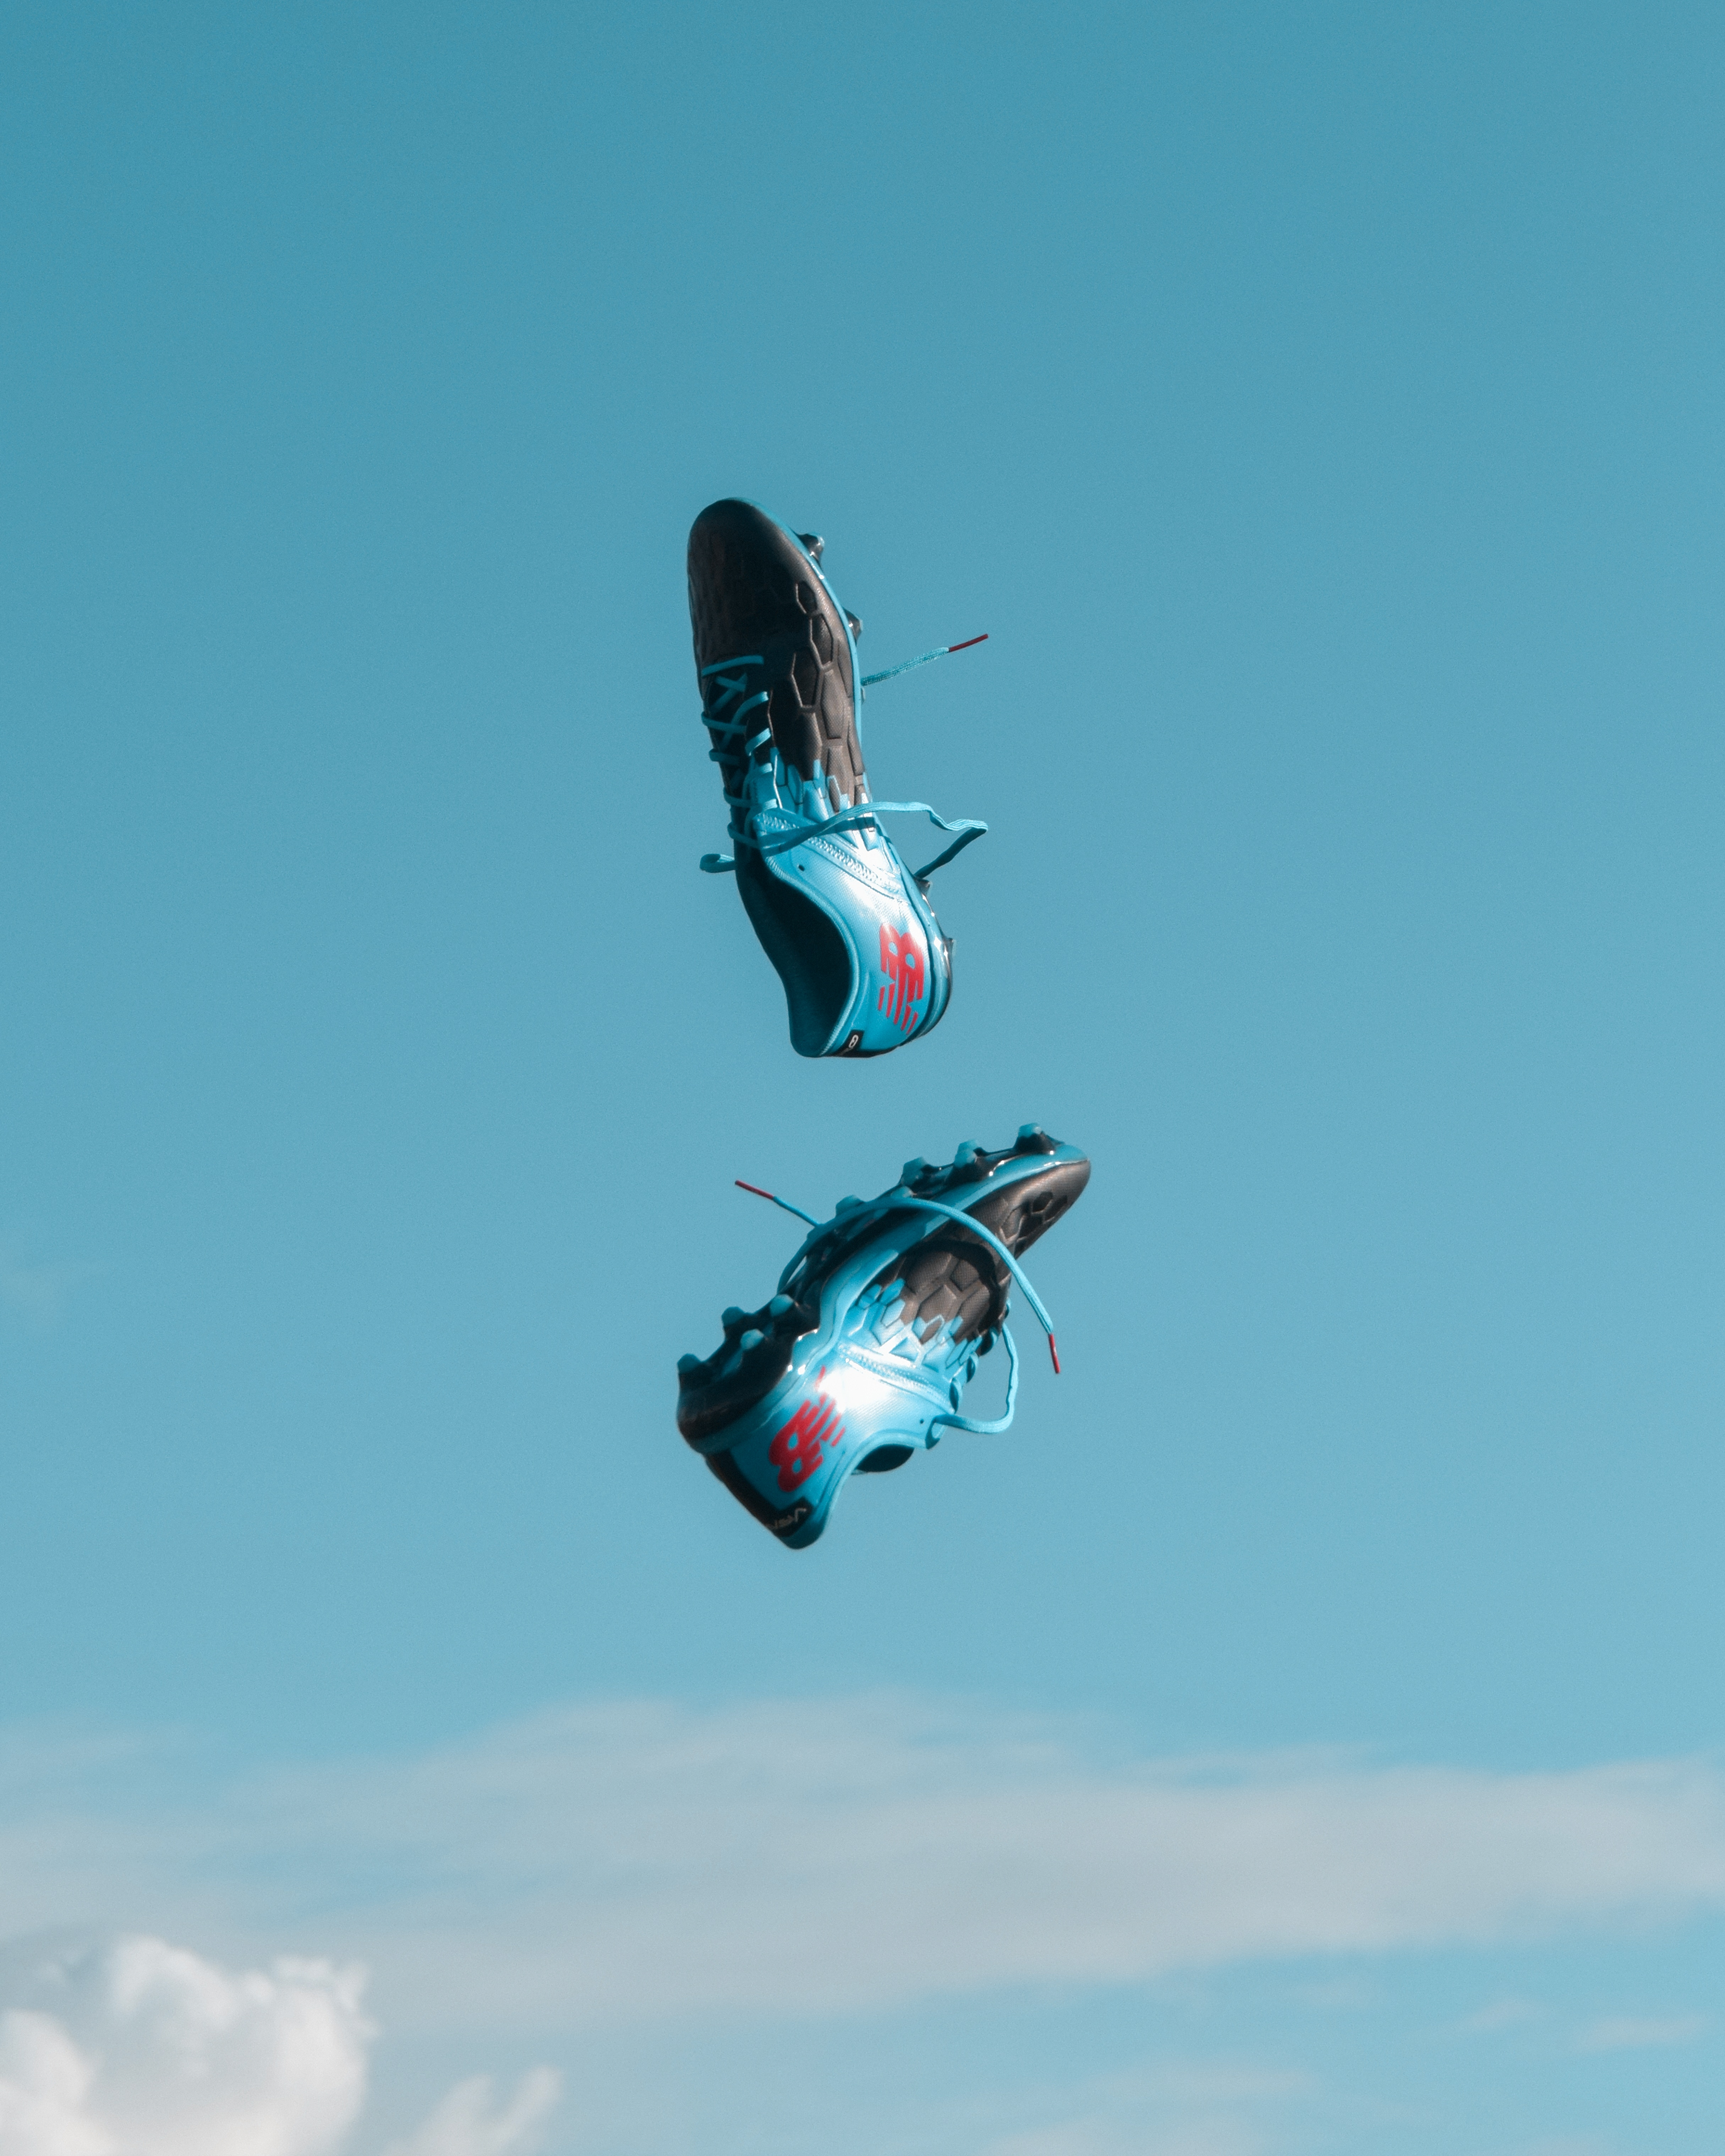soccer cleats: (547, 1126, 1193, 1565), (606, 475, 989, 1084)
